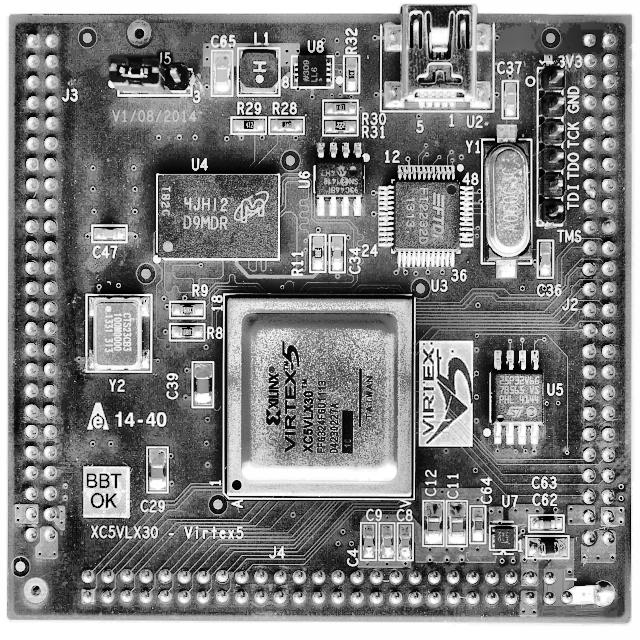PCB: (6, 5, 633, 628)
